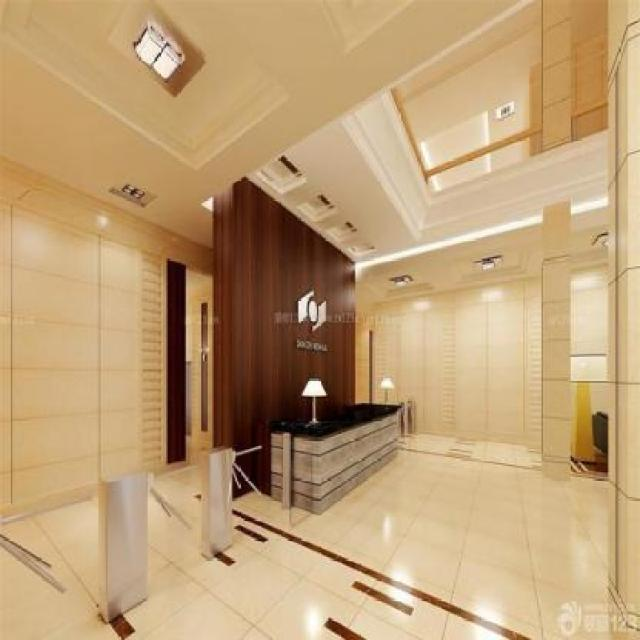frontdesk: (258, 390, 408, 518)
